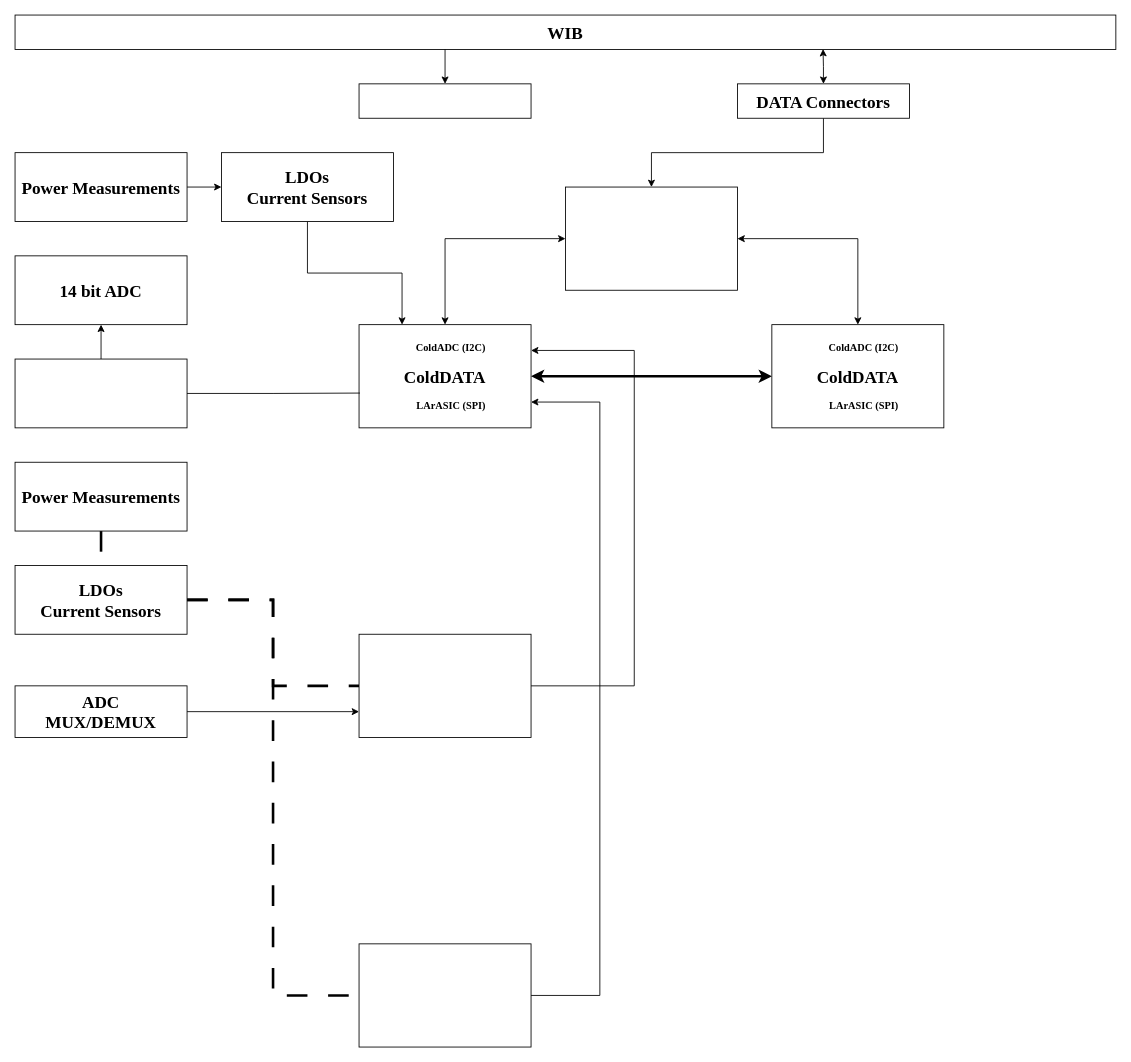
Some shapes in this 1131 by 1062 pixel diagram are drawn without their labels. Here are the shapes that lost their labels. From the top down, the box of each, then its label:
(358, 83, 531, 118): Power Connectors
(565, 186, 737, 290): Cyclone IV FPGA
(14, 358, 187, 428): ColdDATA MUX/DEMUX
(358, 633, 531, 737): Test ColdADC P2 Ref
(358, 943, 531, 1047): LArASIC P5B T/M
